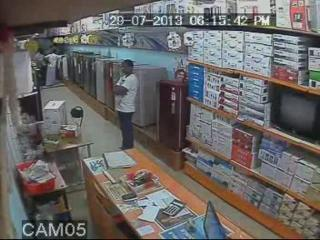Normal: (270, 88, 320, 146), (112, 59, 139, 151)
